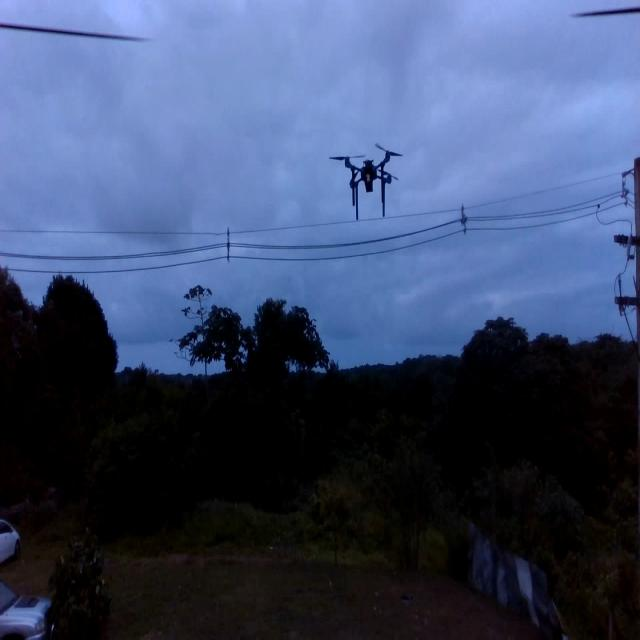-uav-: (327, 139, 410, 228)
